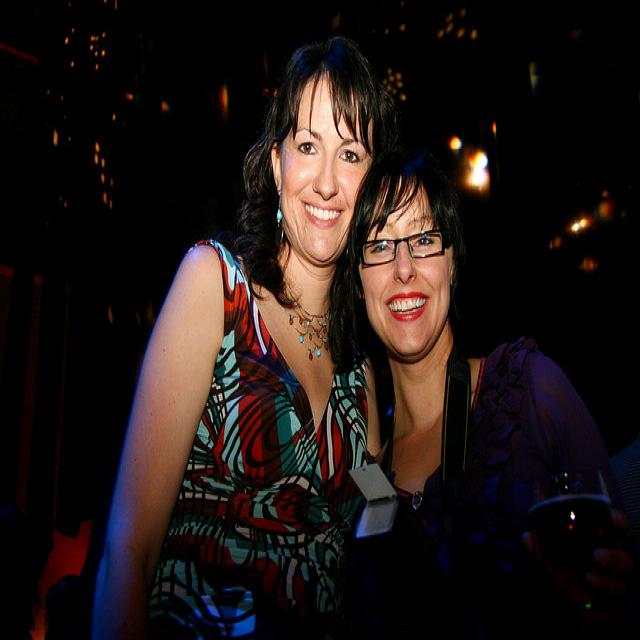Cup: (524, 422, 630, 635)
People: (51, 34, 389, 640), (359, 165, 580, 640)
